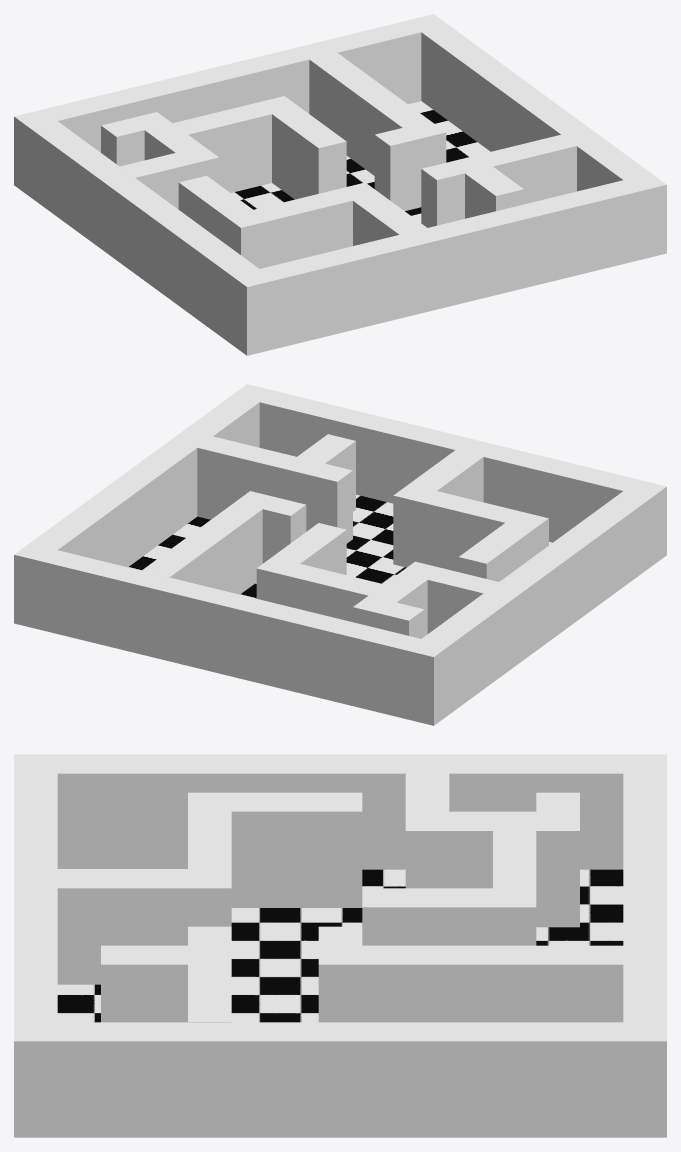
Rendered from Maze.FBX.
3 renders of one model, top to bottom at view 1: azimuth 30°, elevation 25°; view 2: azimuth 150°, elevation 25°; view 3: azimuth 270°, elevation 25°, orthographic. The views are drawn at different scales.
Parts seen in each view (by area): view 1: Plane002; view 2: Plane002; view 3: Plane002.
Part boxes in pixels (box(x1,y1,x2,y2)): Plane002: box(14, 14, 666, 355); Plane002: box(14, 384, 666, 725); Plane002: box(14, 754, 666, 1137).
Bounding box in the file's own units: 1471 × 230 × 1415.
1 material, 1 textured.
